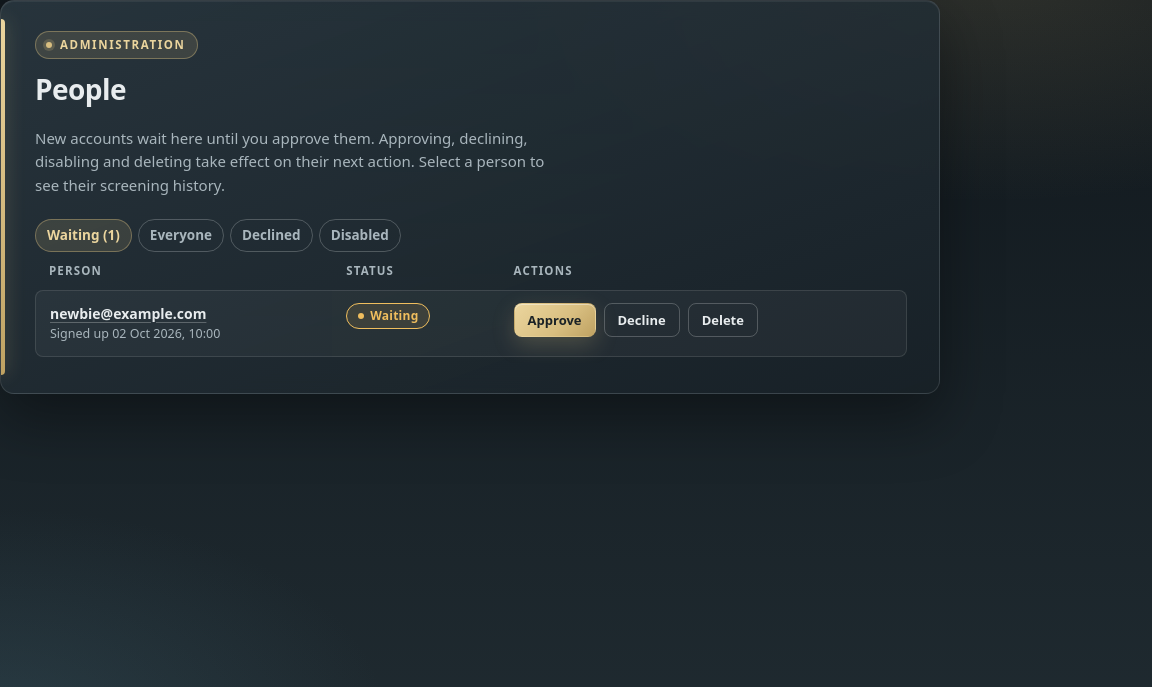
it: People › shows the server's refusal to remove the last administrator
Expected: the button "newbie@example.com" is shown, [50,303,206,324]
Click the button "Everyone" at (181, 235), box [138,219,224,252]
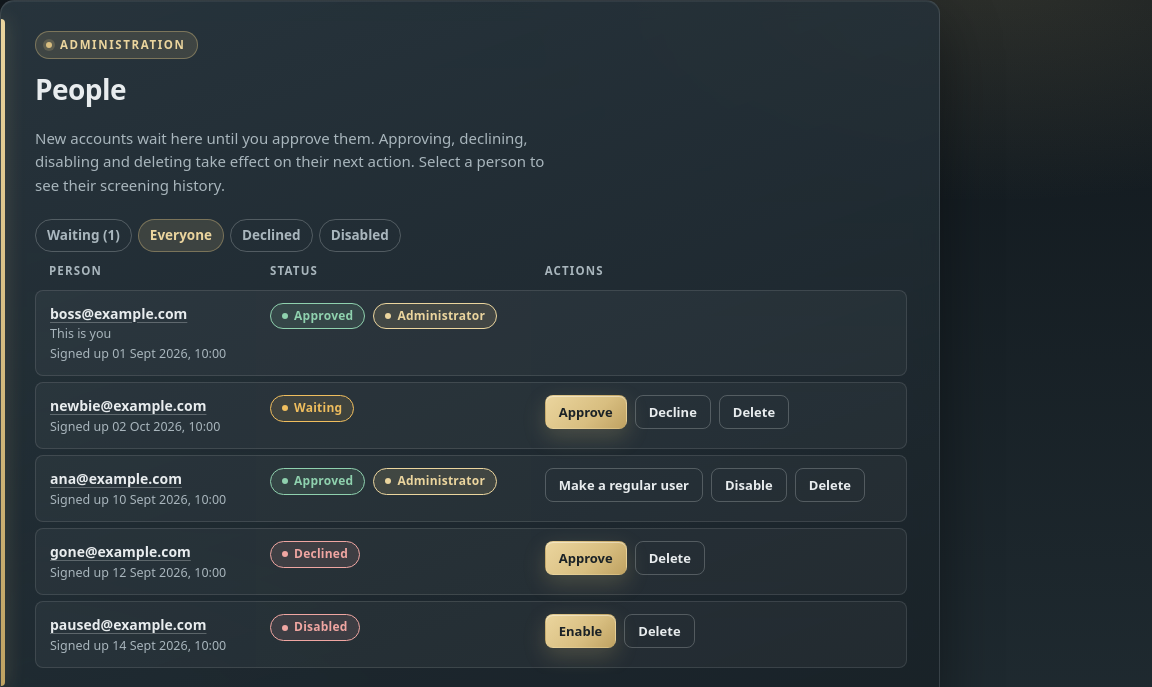
Click the button "Make a regular user" at (624, 485), box [545,468,703,502]
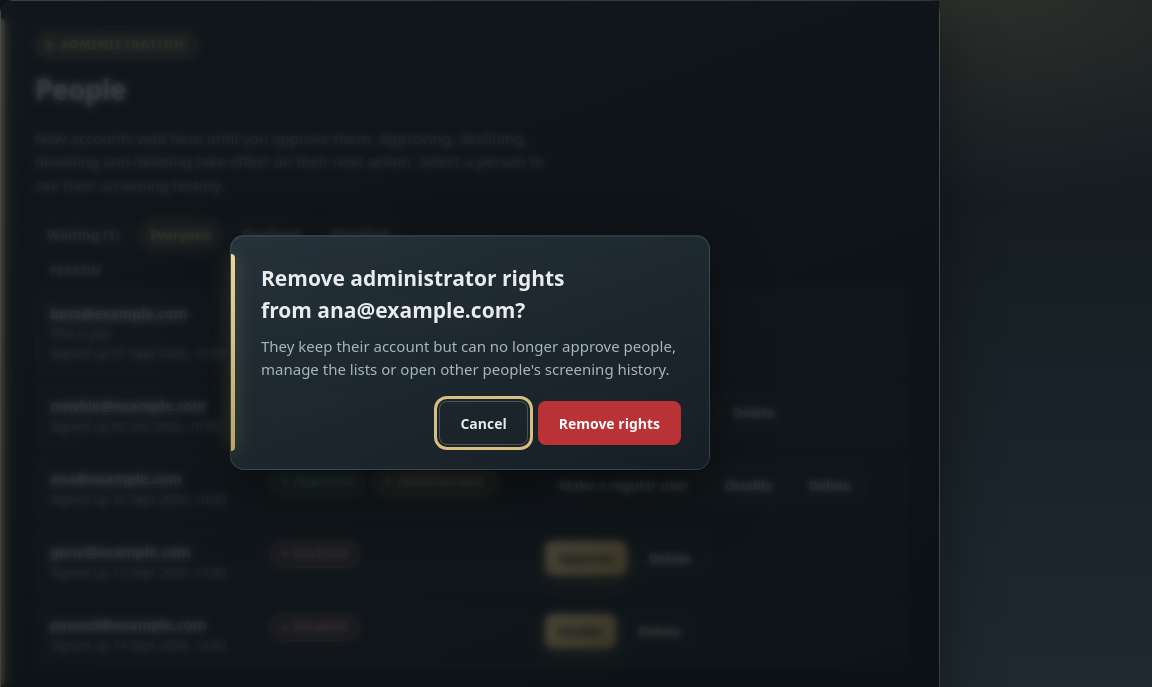
Click the button "Remove rights" at (609, 423), box [538,401,681,445]
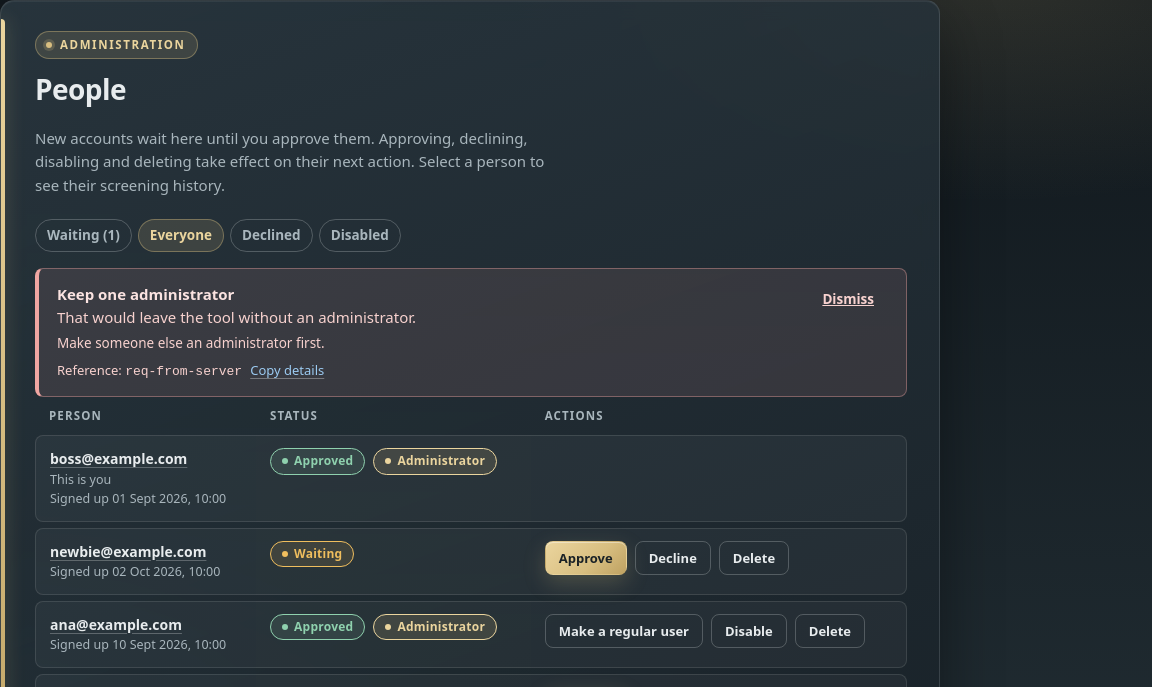
Result: the text "Keep one administrator" is shown at [57,284,234,304]
Result: the text "Make someone else an administrator first." is shown at [57,334,325,352]
